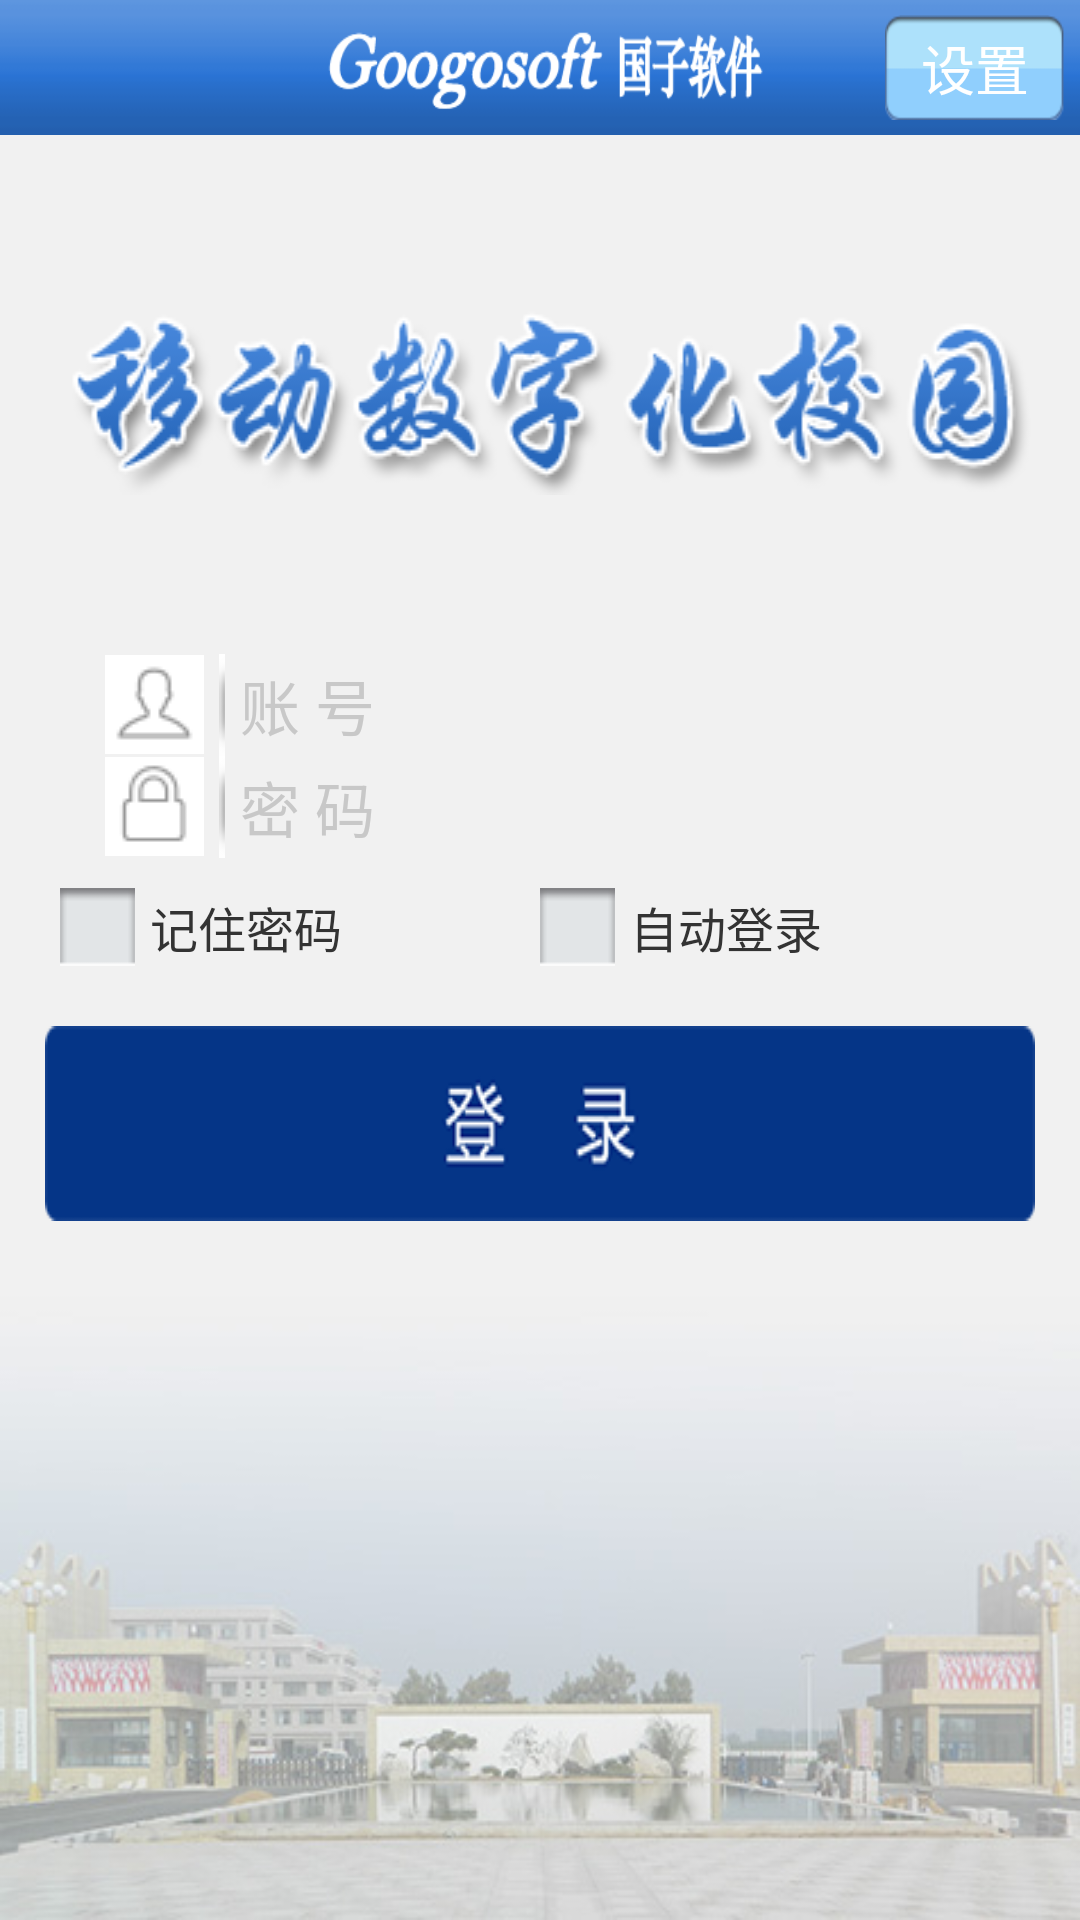

Named icons in this screenshot (1080×1920) and their bounding boxes, (x1,y1,x2,y2):
login ischeck: (60,888,135,966), (540,888,615,966)
login pwd: (105,757,204,856)
login usrn: (105,655,204,754)
